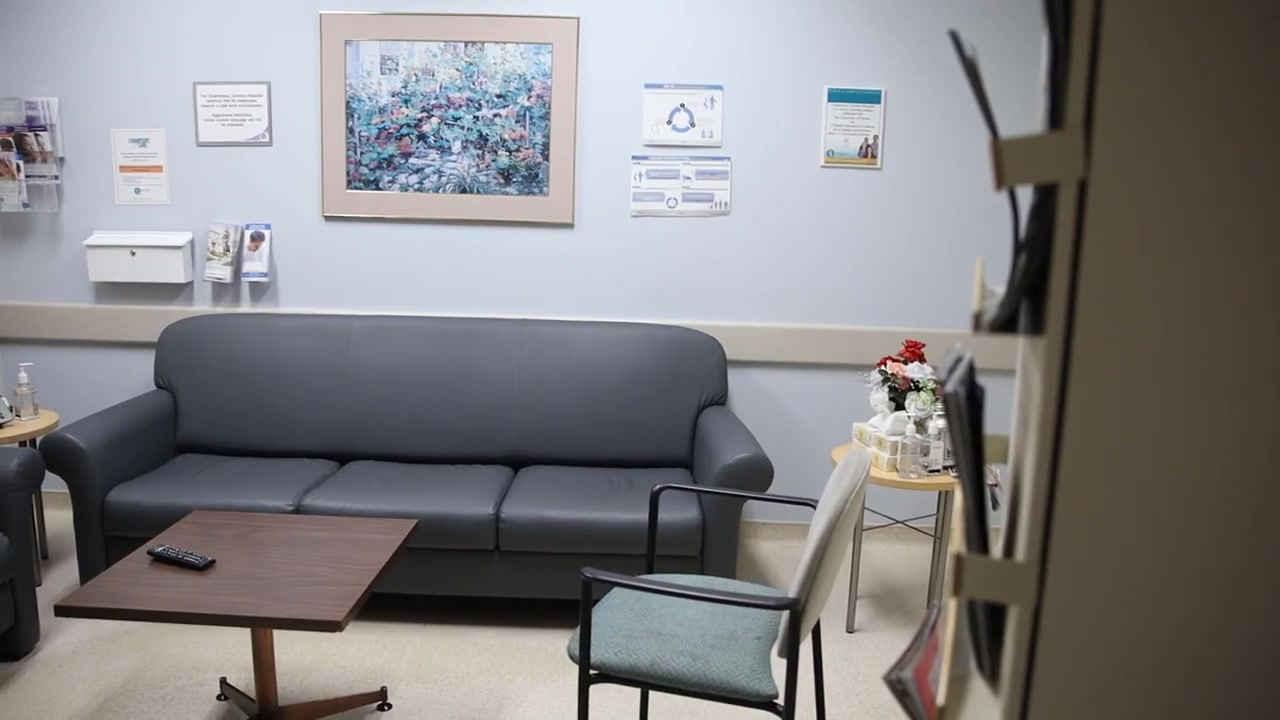chair: (566, 449, 862, 720)
dispenser: (897, 411, 920, 481), (922, 412, 944, 474), (14, 360, 35, 421)
sofa: (39, 315, 770, 607), (1, 446, 46, 662)
table: (51, 505, 418, 720), (829, 441, 971, 633), (1, 405, 60, 590)
